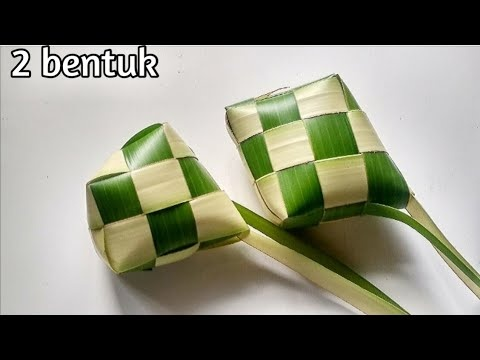ketupat: (223, 74, 409, 232), (86, 119, 250, 276)
